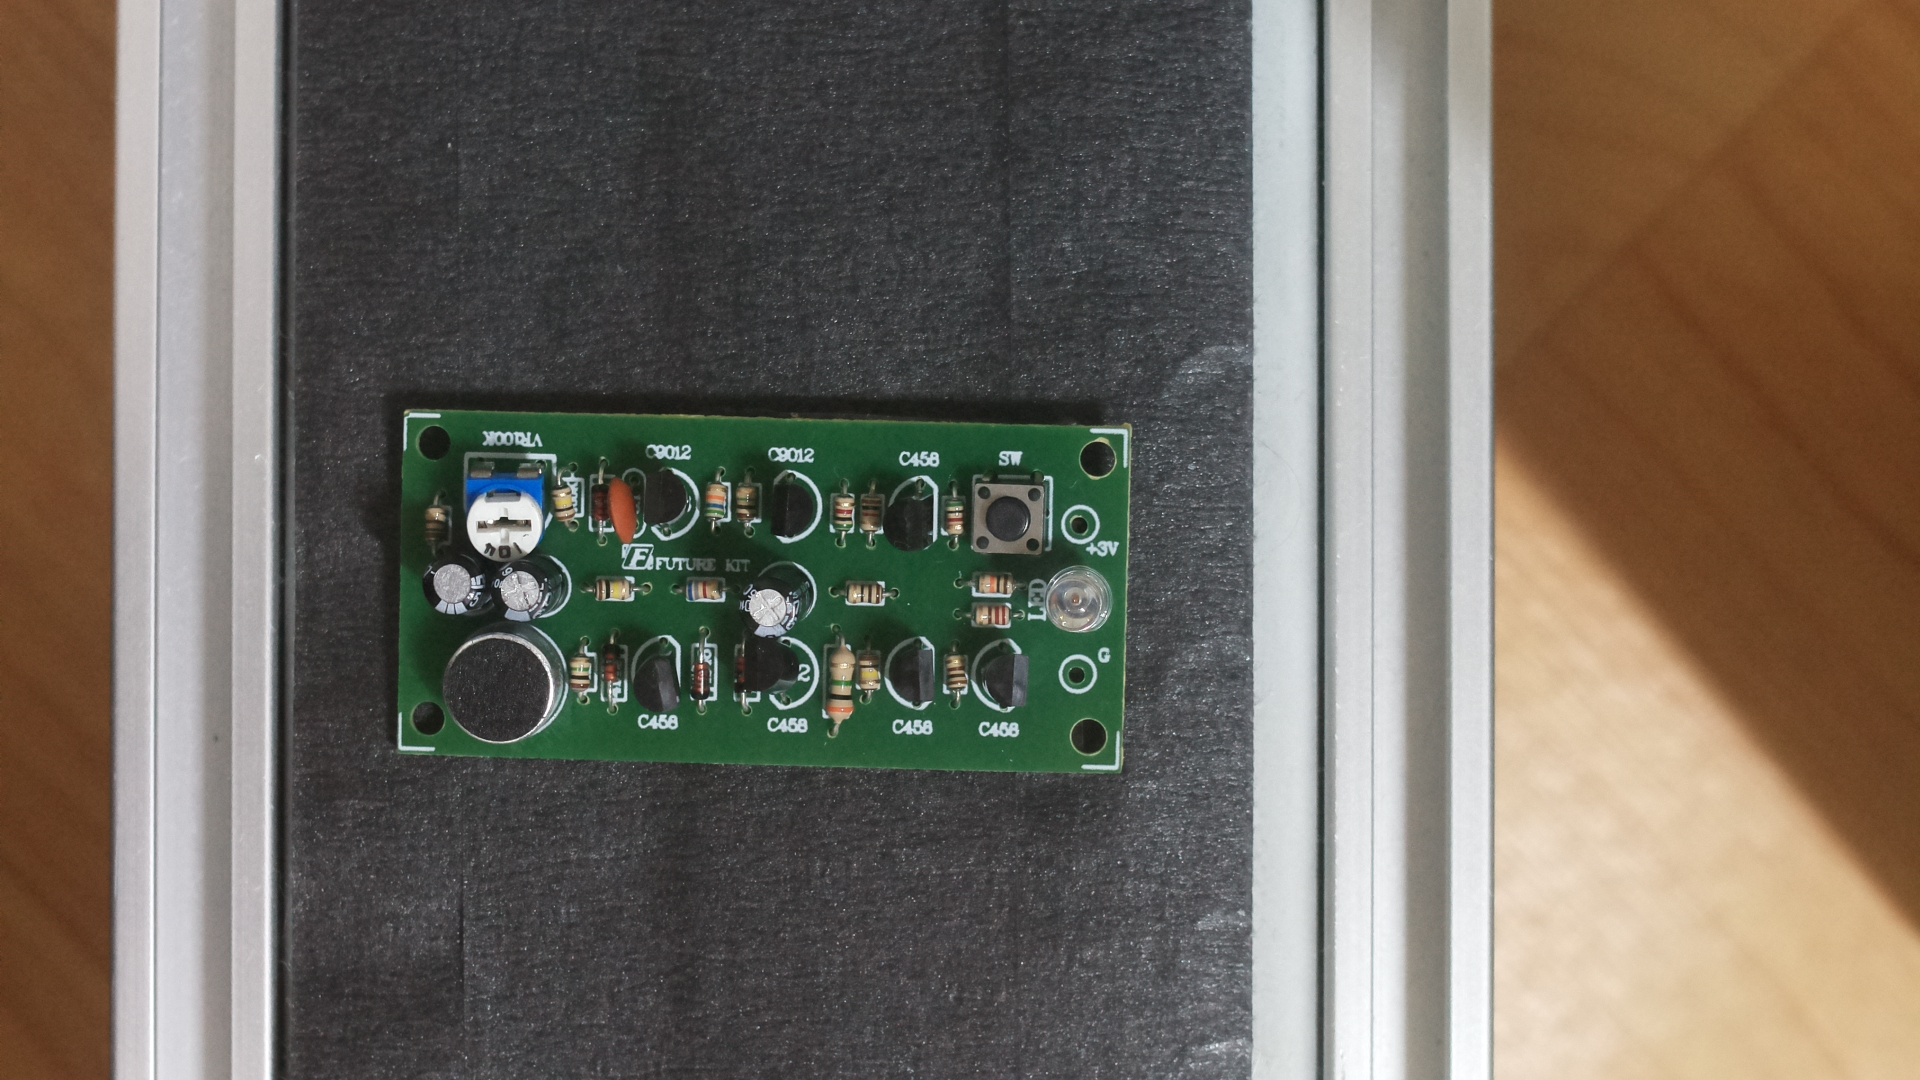A_Normal: (381, 385, 1145, 793)
